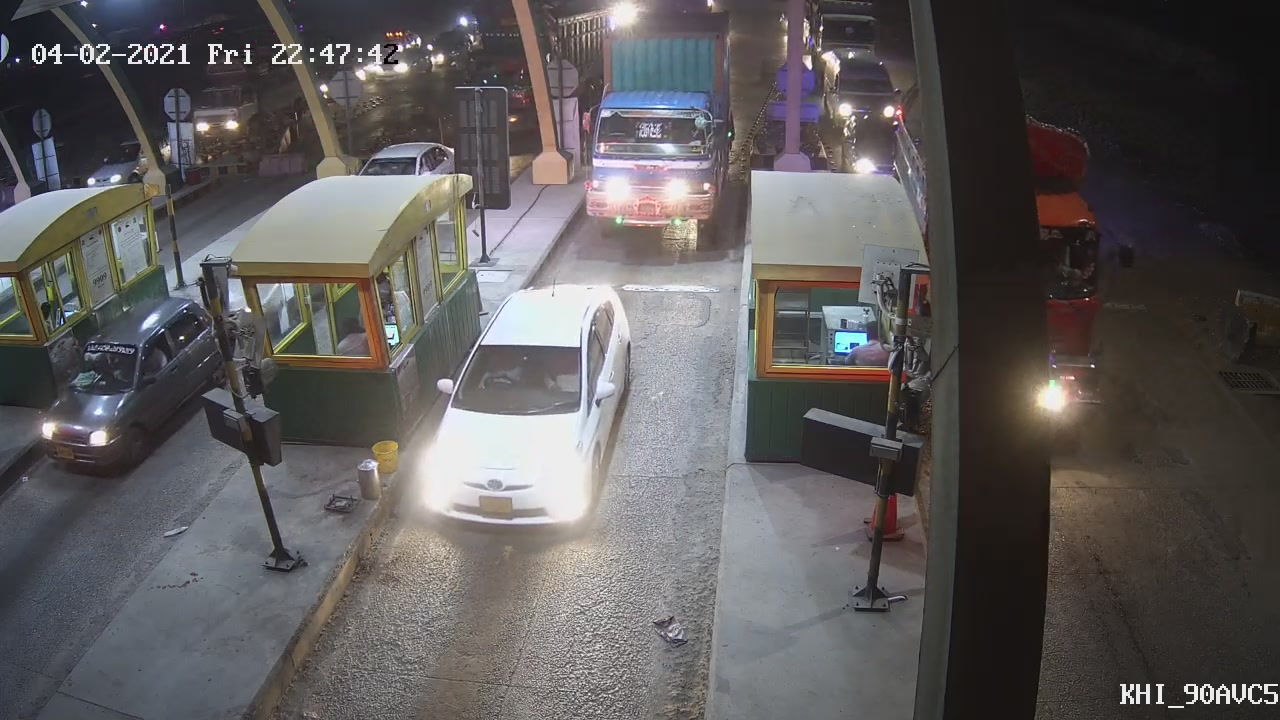F1: (420, 279, 639, 529)
F6: (575, 28, 737, 239)
